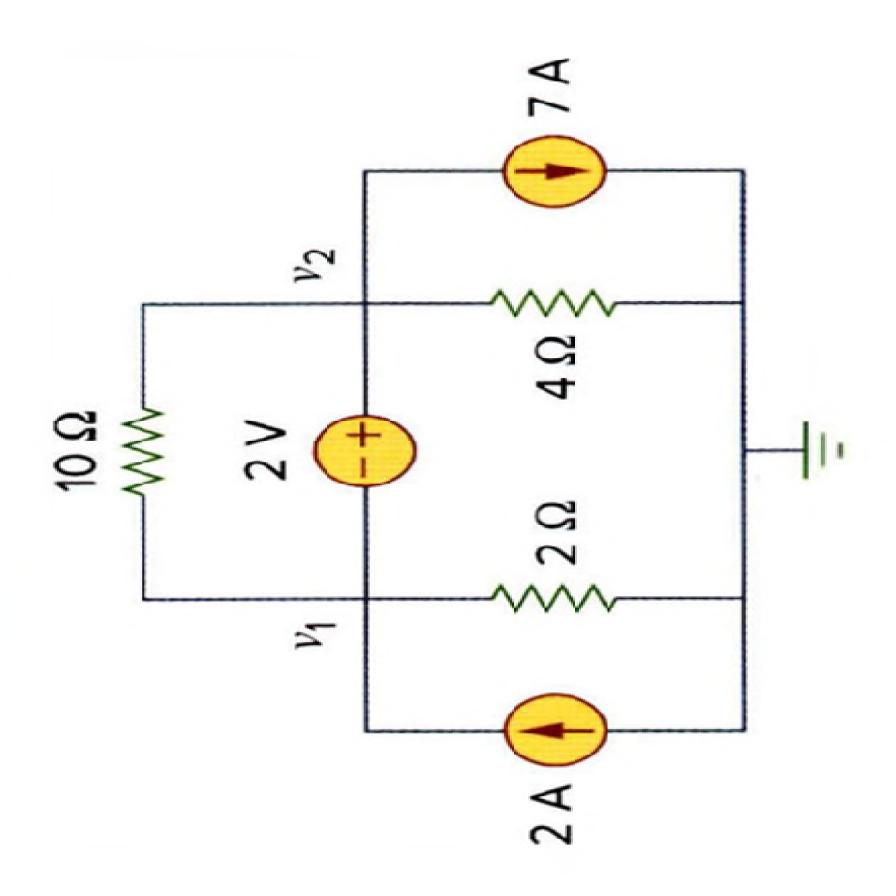I2: (489, 127, 616, 214)
I4: (497, 688, 616, 772)
R1: (468, 276, 628, 327), (484, 568, 626, 616)
R2: (105, 391, 173, 504)
